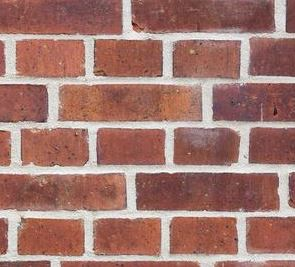brick: (133, 171, 280, 212), (56, 82, 204, 122), (1, 170, 127, 212), (129, 1, 277, 35), (1, 1, 124, 36), (211, 83, 295, 123), (19, 125, 91, 168), (171, 37, 244, 79), (92, 37, 167, 77), (166, 214, 239, 255), (14, 39, 87, 78), (95, 126, 168, 165), (92, 217, 163, 255), (171, 127, 240, 165), (16, 217, 85, 255), (247, 35, 295, 78), (1, 82, 51, 122), (248, 126, 295, 166), (245, 217, 294, 252)
